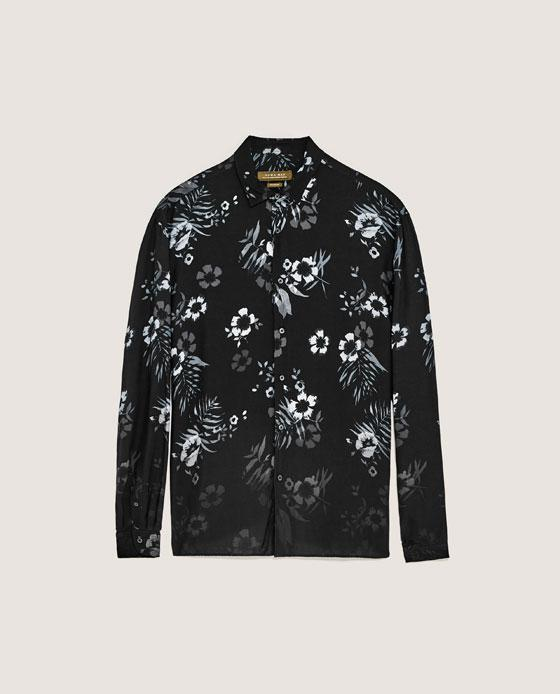teeshirt: (92, 134, 457, 579)
